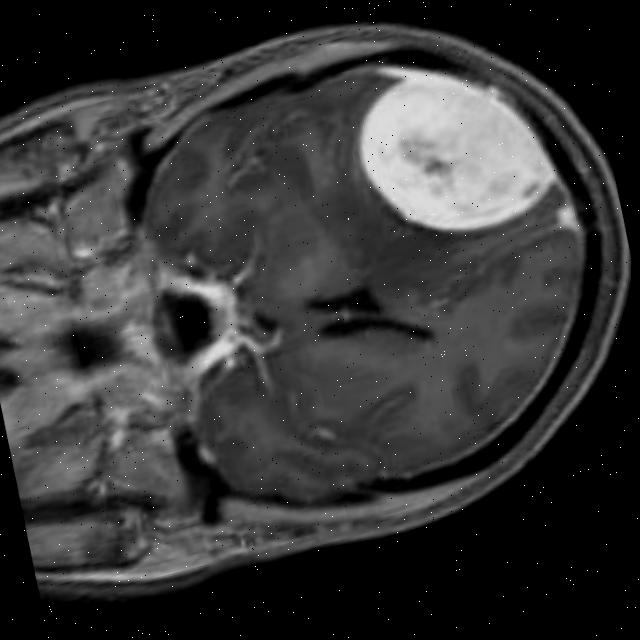Meningioma: (334, 21, 569, 260)
